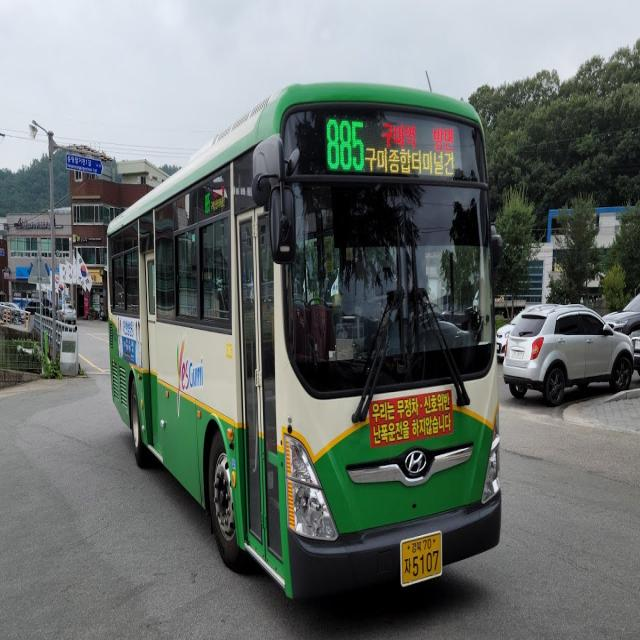bus-number: (324, 116, 366, 174)
